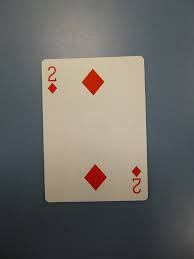two of diamonds: (41, 54, 149, 201)
